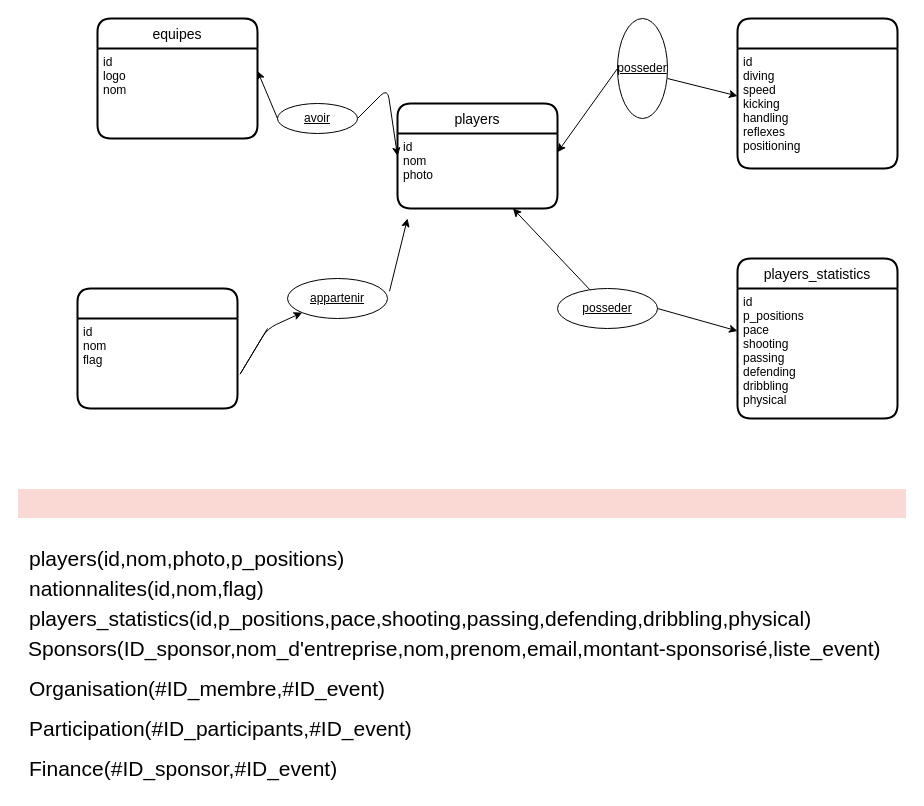
Some shapes in this 924 by 806 pixel diagram are drawn without their labels. The shapes that lost their labels are listed below. From the top down, each one's box as (x1, y1, x2, y2) in pixels, then its label:
(736, 17, 898, 169): gk_statistics
(76, 287, 238, 409): nationnalites
(16, 488, 906, 788): MLD
